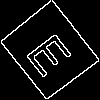E: (24, 25, 81, 80)
